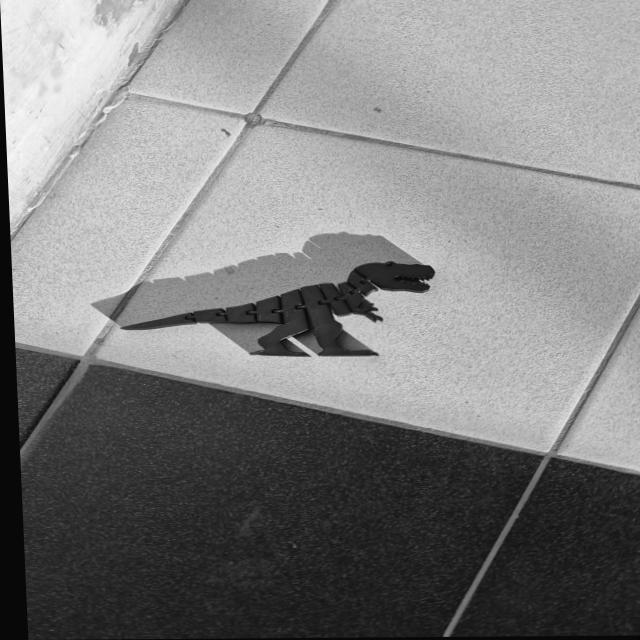dino: (115, 260, 440, 359)
